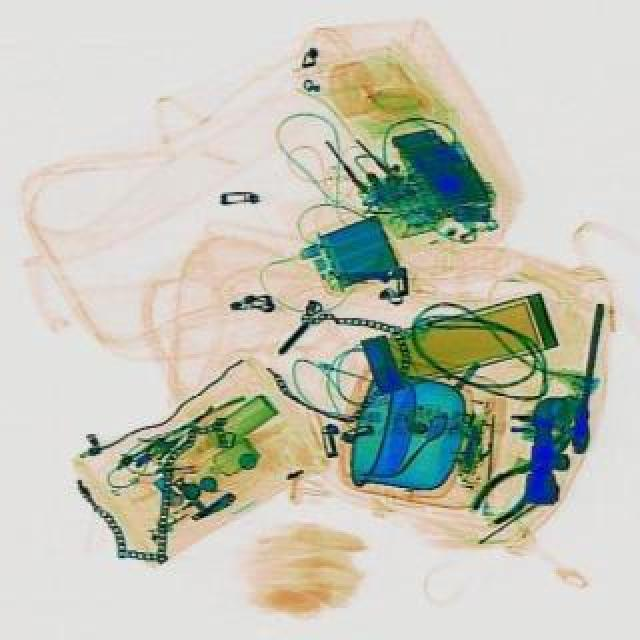wrench: (462, 408, 594, 532)
